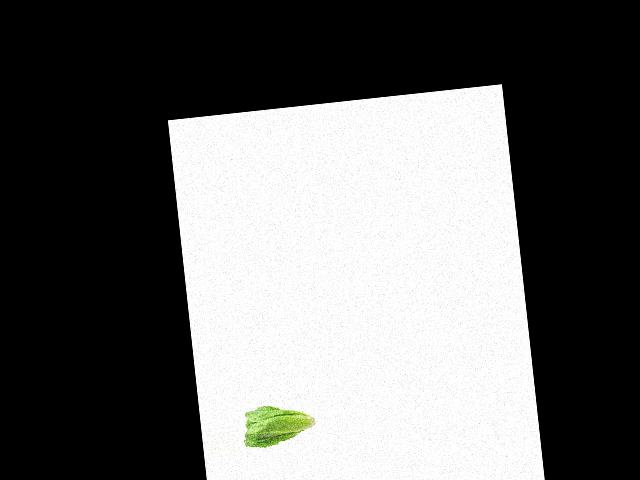lettuce: (240, 395, 317, 451)
